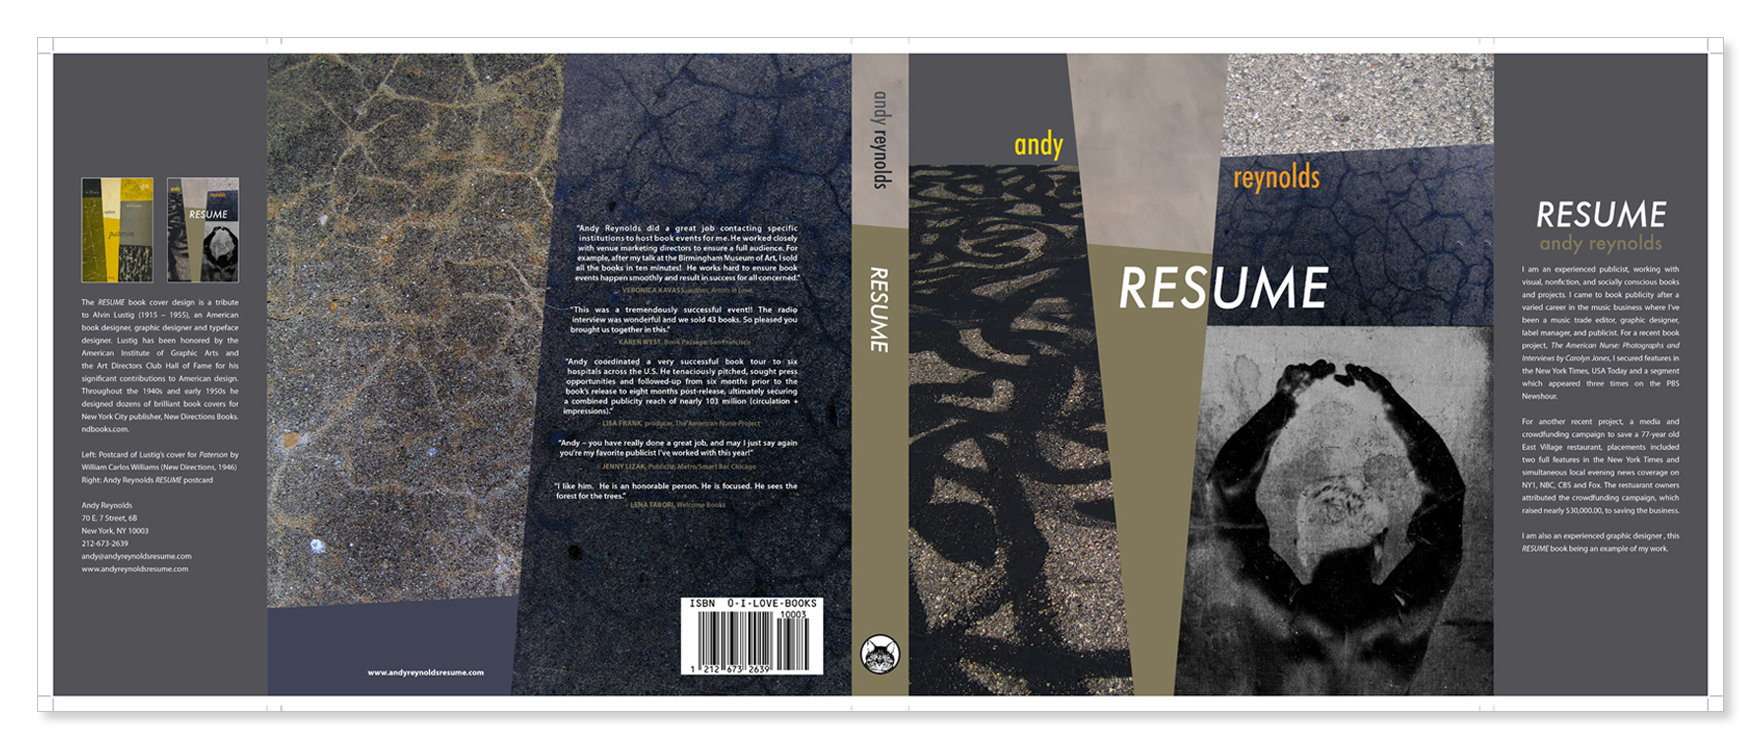barcode: (687, 607, 827, 675)
